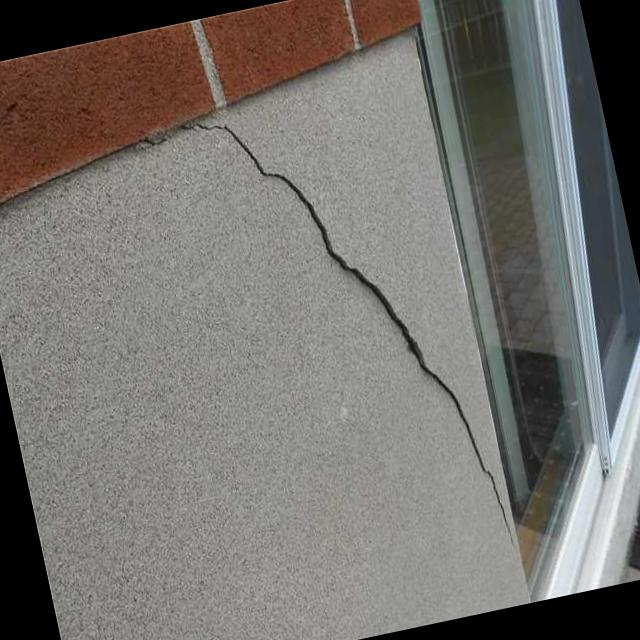crack: (177, 121, 516, 549)
